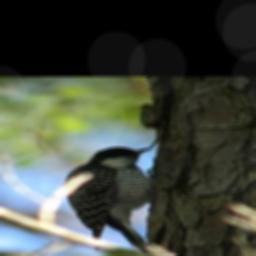Woodpecker: (63, 145, 157, 254)
